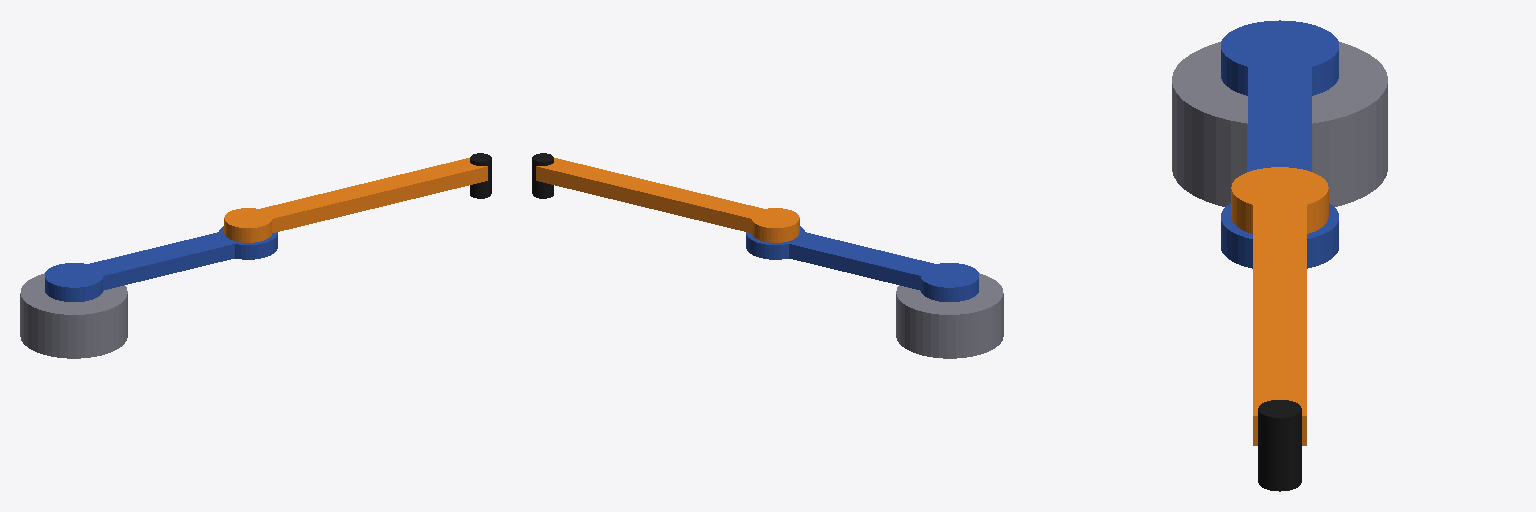
URDF robot description (toy_2link):
<?xml version="1.0" encoding="utf-8"?>
<!-- Toy 2-link planar arm for the Lab 2 warm-up: link 1 = 0.15 m, link 2 = 0.20 m, arm plane 0.05 m above the floor -->
<robot name="toy_2link">

  <link name="base_link">
    <visual>
      <origin xyz="0 0 0" rpy="0 0 0"/>
      <geometry><mesh filename="package://toy_robot/meshes/base.stl"/></geometry>
      <material name="grey"><color rgba="0.55 0.55 0.6 1"/></material>
    </visual>
  </link>

  <joint name="joint1" type="revolute">
    <origin xyz="0 0 0.05" rpy="0 0 0"/>
    <parent link="base_link"/>
    <child link="link1"/>
    <axis xyz="0 0 1"/>
    <limit lower="-3.1416" upper="3.1416" effort="10" velocity="3.14"/>
  </joint>

  <link name="link1">
    <visual>
      <origin xyz="0 0 0" rpy="0 0 0"/>
      <geometry><mesh filename="package://toy_robot/meshes/link1.stl"/></geometry>
      <material name="blue"><color rgba="0.23 0.38 0.71 1"/></material>
    </visual>
  </link>

  <joint name="joint2" type="revolute">
    <origin xyz="0.15 0 0" rpy="0 0 0"/>
    <parent link="link1"/>
    <child link="link2"/>
    <axis xyz="0 0 1"/>
    <limit lower="-3.1416" upper="3.1416" effort="10" velocity="3.14"/>
  </joint>

  <link name="link2">
    <visual>
      <origin xyz="0 0 0" rpy="0 0 0"/>
      <geometry><mesh filename="package://toy_robot/meshes/link2.stl"/></geometry>
      <material name="orange"><color rgba="0.95 0.55 0.15 1"/></material>
    </visual>
  </link>

  <joint name="tool" type="fixed">
    <origin xyz="0.20 0 0" rpy="0 0 0"/>
    <parent link="link2"/>
    <child link="end_effector"/>
  </joint>

  <link name="end_effector">
    <visual>
      <origin xyz="0 0 0" rpy="0 0 0"/>
      <geometry><mesh filename="package://toy_robot/meshes/tip.stl"/></geometry>
      <material name="dark"><color rgba="0.15 0.15 0.15 1"/></material>
    </visual>
  </link>

</robot>

--- Render facts (derived) ---
The picture shows the robot from 3 angles, left to right: view 1: azimuth 30°, elevation 25°; view 2: azimuth 150°, elevation 25°; view 3: azimuth 270°, elevation 25°; orthographic projection.
Model toy_2link with 4 links and 3 joints (2 revolute, 1 fixed), rooted at base_link, posed all joints at 0.
Visible links, largest first — view 1: link2, link1, base_link, end_effector; view 2: link2, link1, base_link, end_effector; view 3: base_link, link2, link1, end_effector.
Boxes of the visible links, x1=… form: link2: x1=224, y1=158, x2=487, y2=242; link1: x1=45, y1=226, x2=277, y2=301; base_link: x1=20, y1=273, x2=127, y2=358; end_effector: x1=470, y1=153, x2=491, y2=198; link2: x1=536, y1=158, x2=799, y2=242; link1: x1=746, y1=226, x2=978, y2=301; base_link: x1=896, y1=273, x2=1003, y2=358; end_effector: x1=532, y1=153, x2=553, y2=198; base_link: x1=1172, y1=42, x2=1387, y2=206; link2: x1=1231, y1=167, x2=1328, y2=445; link1: x1=1221, y1=20, x2=1338, y2=268; end_effector: x1=1258, y1=400, x2=1301, y2=491.
Bounding box of the posed robot: 0.398 × 0.08 × 0.065 m (x, y, z).
Meshes: 4 distinct files referenced, 4 mesh visuals loaded (4 binary STL).
